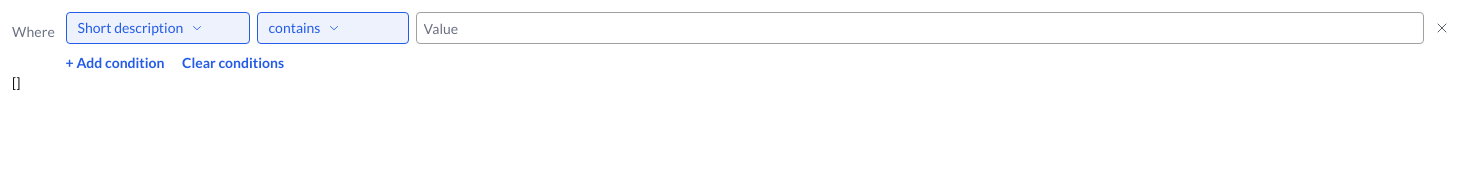
Test case: ConditionBuilder › opens on one empty row, and adds another on the first field and its first operator
The image size is (1464, 172).
Expected: the text "Where" is shown, [12,23,55,40]
Expected: the text with test id "serialized" reads "[]", [12,74,20,91]
Click the button "+ Add condition". click: (115, 63)
box: [66,53,164,73]
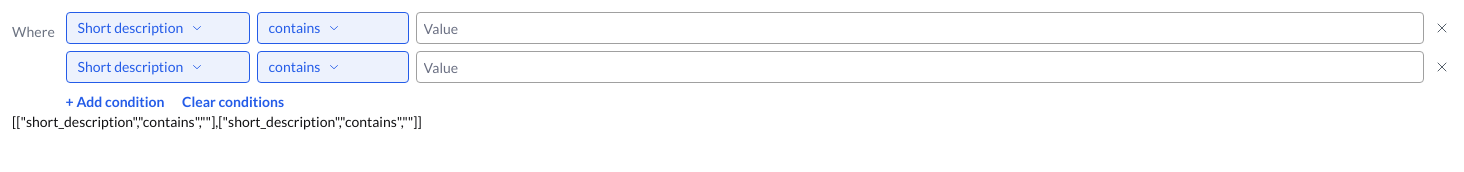
Expected: the text with test id "serialized" reads "[ [\"short_description\",\"contains\",\"\"],[\"short_description\",\"contains\",\"\"]]", [12,113,422,130]
